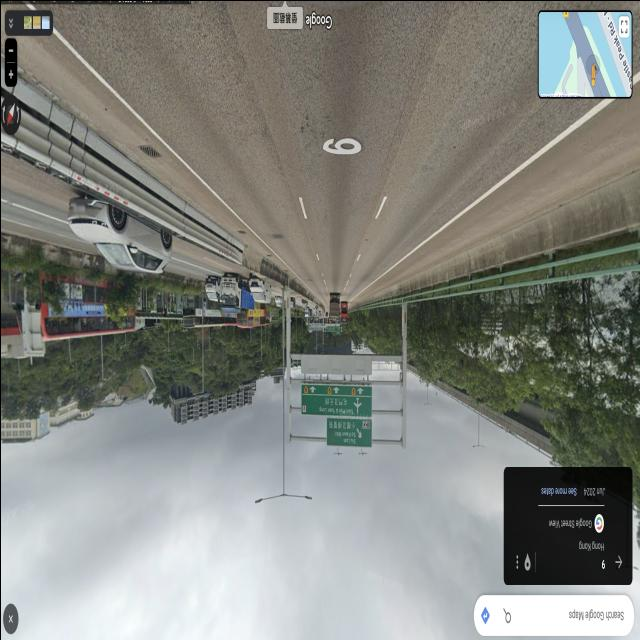Direction-Sign: (299, 383, 371, 415), (326, 417, 371, 448)
